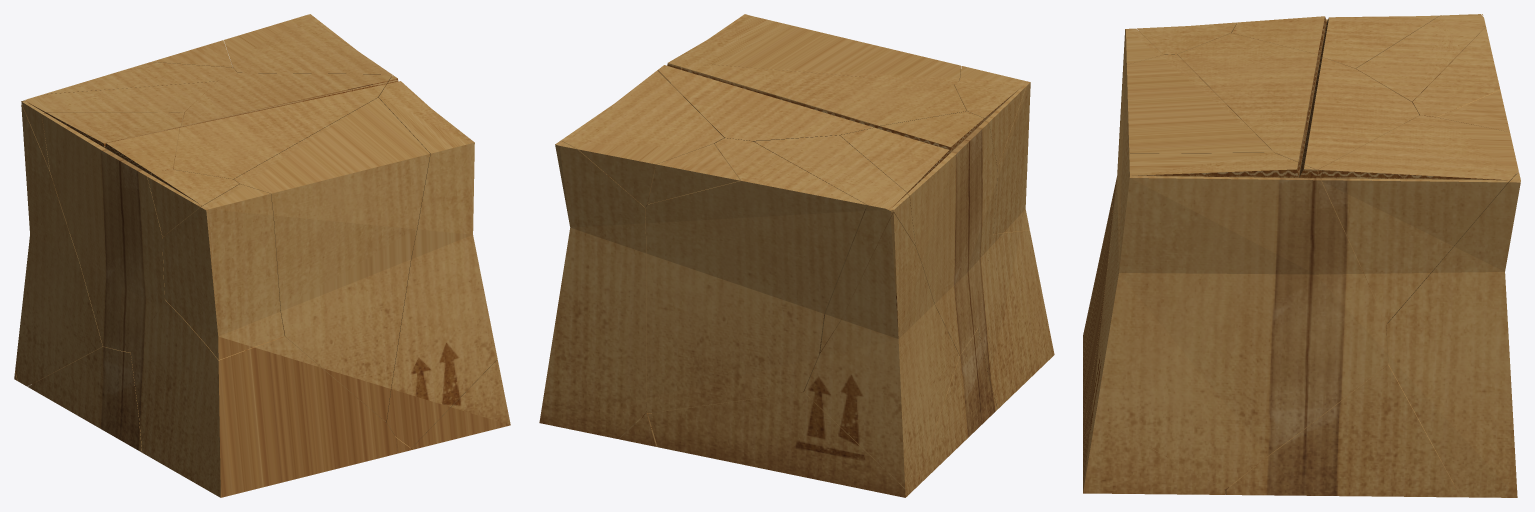
The model's file is cutbox.fbx.
3 views of the same model, side by side, from view 1: azimuth 30°, elevation 25°; view 2: azimuth 150°, elevation 25°; view 3: azimuth 270°, elevation 25° (orthographic). The views are drawn at different scales.
Parts seen in each view (by area): view 1: box_cell.003, box_cell, box_cell.002, box_cell.006, box_cell.005, box_cell.001, box_cell.014, box_cell.013, box_cell.016, box_cell.010, box_cell.004, box_cell.008 (+2 smaller); view 2: box_cell.015, box_cell.012, box_cell.014, box_cell.006, box_cell.001, box_cell.011, box_cell.016, box_cell, box_cell.010, box_cell.003, box_cell.013, box_cell.005 (+4 smaller); view 3: box_cell.002, box_cell.012, box_cell.016, box_cell.001, box_cell.017, box_cell.003, box_cell.004, box_cell.006, box_cell.010, box_cell.015, box_cell, box_cell.008 (+2 smaller).
Boxes of the visible parts, bbox=[...] form: box_cell.003: bbox=[234, 97, 430, 422]; box_cell: bbox=[130, 300, 397, 497]; box_cell.002: bbox=[378, 75, 497, 447]; box_cell.006: bbox=[41, 112, 184, 352]; box_cell.005: bbox=[162, 184, 284, 359]; box_cell.001: bbox=[173, 73, 392, 179]; box_cell.014: bbox=[15, 104, 102, 386]; box_cell.013: bbox=[27, 346, 141, 452]; box_cell.016: bbox=[224, 18, 391, 74]; box_cell.010: bbox=[21, 81, 216, 170]; box_cell.004: bbox=[411, 359, 510, 449]; box_cell.008: bbox=[147, 169, 239, 236]; box_cell.015: bbox=[645, 138, 867, 413]; box_cell.012: bbox=[539, 140, 646, 438]; box_cell.014: bbox=[803, 212, 959, 495]; box_cell.006: bbox=[840, 111, 997, 355]; box_cell.001: bbox=[657, 64, 966, 141]; box_cell.011: bbox=[648, 392, 907, 497]; box_cell.016: bbox=[561, 70, 723, 208]; box_cell: bbox=[978, 230, 1054, 408]; box_cell.010: bbox=[754, 135, 915, 368]; box_cell.003: bbox=[713, 25, 960, 84]; box_cell.013: bbox=[915, 328, 997, 488]; box_cell.005: bbox=[960, 66, 1030, 234]; box_cell.002: bbox=[1083, 152, 1388, 489]; box_cell.012: bbox=[1386, 172, 1520, 497]; box_cell.016: bbox=[1318, 115, 1518, 324]; box_cell.001: bbox=[1177, 33, 1419, 177]; box_cell.017: bbox=[1083, 364, 1460, 497]; box_cell.003: bbox=[1090, 54, 1273, 389]; box_cell.004: bbox=[1083, 417, 1225, 494]; box_cell.006: bbox=[1231, 15, 1441, 68]; box_cell.010: bbox=[1356, 14, 1485, 102]; box_cell.015: bbox=[1412, 27, 1500, 117]; box_cell: bbox=[1083, 200, 1112, 430]; box_cell.008: bbox=[1137, 22, 1237, 54].
Bounding box in the file's own units: 209 × 170 × 211.
Materials: 1 (1 with a texture image).
